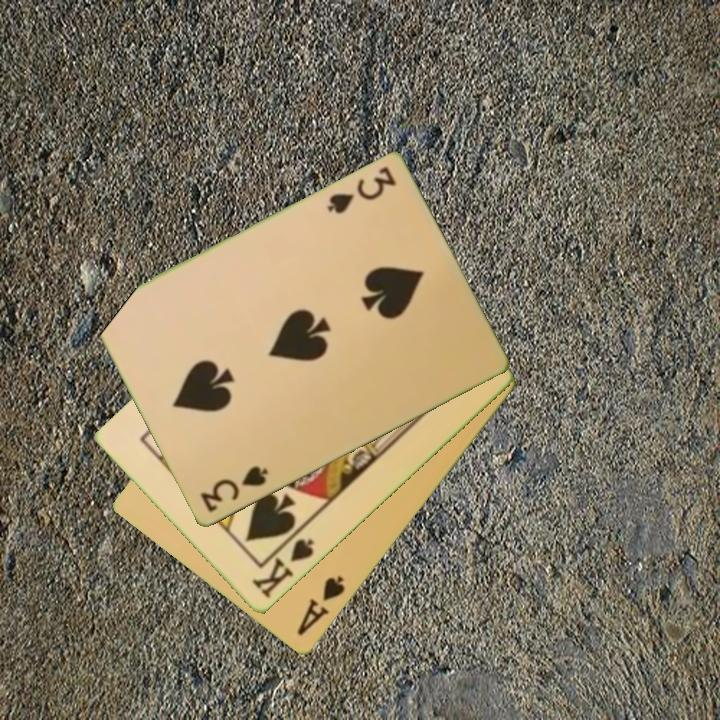3s: (323, 163, 399, 218), (196, 463, 271, 516)
As: (293, 573, 348, 640)
Ks: (248, 527, 317, 603)
